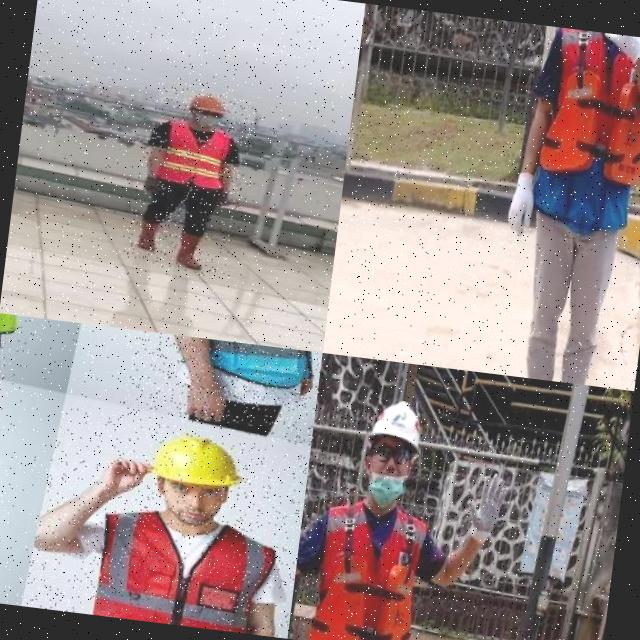boots: (171, 228, 213, 272), (130, 215, 166, 252)
helmet: (140, 422, 253, 498), (364, 392, 430, 454), (184, 88, 230, 116)
vest: (74, 485, 290, 637), (515, 24, 640, 238), (296, 485, 441, 640), (139, 331, 322, 395), (157, 119, 236, 192)
